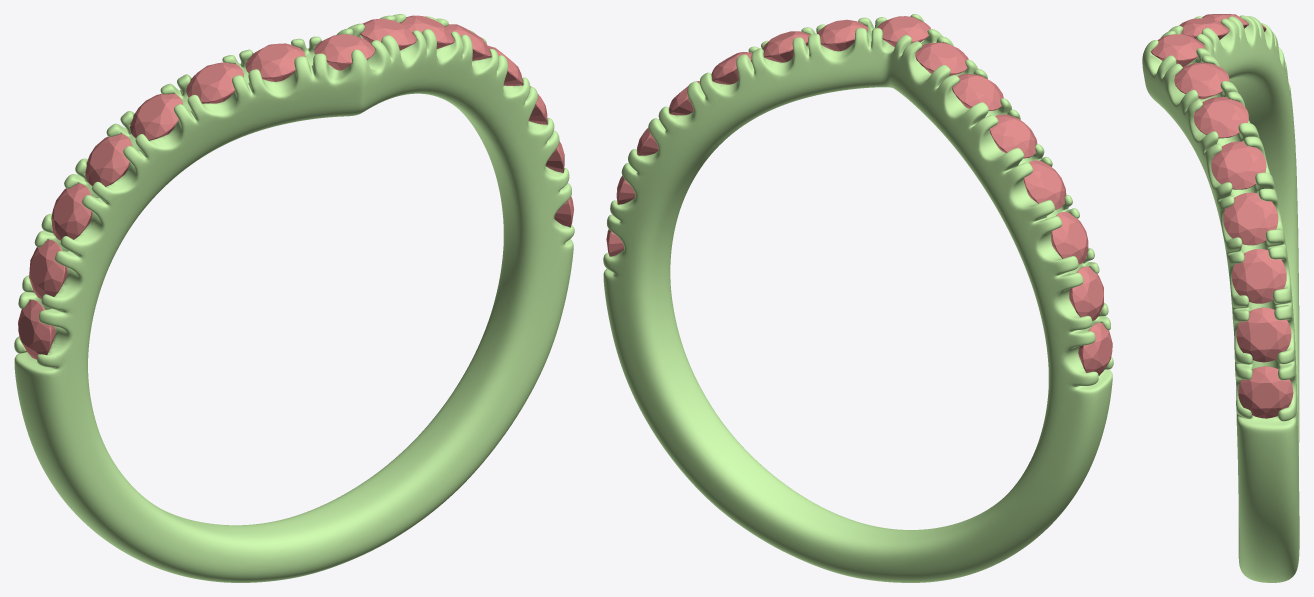
Rendered from BE2D1940LC_RENDER.glb.
3 renders of one model, left to right at view 1: azimuth 30°, elevation 25°; view 2: azimuth 150°, elevation 25°; view 3: azimuth 270°, elevation 25°, orthographic. The views are drawn at different scales.
Visible parts, largest first — view 1: Metal03, Diamond_Round_Gem_BD.014, Diamond_Round_Gem_BD.012, Diamond_Round_Gem_BD.003, Diamond_Round_Gem_BD.010, Diamond_Round_Gem_BD.005, Diamond_Round_Gem_BD.008, Diamond_Round_Gem_BD, Diamond_Round_Gem_BD.006, Diamond_Round_Gem_BD.007, Diamond_Round_Gem_BD.009; view 2: Metal03, Diamond_Round_Gem_BD.014, Diamond_Round_Gem_BD.012, Diamond_Round_Gem_BD.003, Diamond_Round_Gem_BD.010, Diamond_Round_Gem_BD.005, Diamond_Round_Gem_BD.008, Diamond_Round_Gem_BD, Diamond_Round_Gem_BD.006, Diamond_Round_Gem_BD.007, Diamond_Round_Gem_BD.009, Diamond_Round_Gem_BD.011; view 3: Metal03, Diamond_Round_Gem_BD.004, Diamond_Round_Gem_BD.002, Diamond_Round_Gem_BD.013, Diamond_Round_Gem_BD.001, Diamond_Round_Gem_BD.011, Diamond_Round_Gem_BD.009, Diamond_Round_Gem_BD.007, Diamond_Round_Gem_BD.006, Diamond_Round_Gem_BD.008, Diamond_Round_Gem_BD.010.
Boxes of the visible parts, x1,y1,x2,y2 form: Metal03: (14, 14, 574, 582); Diamond_Round_Gem_BD.014: (85, 133, 132, 186); Diamond_Round_Gem_BD.012: (130, 93, 182, 140); Diamond_Round_Gem_BD.003: (51, 183, 92, 240); Diamond_Round_Gem_BD.010: (186, 62, 243, 103); Diamond_Round_Gem_BD.005: (29, 239, 67, 299); Diamond_Round_Gem_BD.008: (245, 43, 305, 81); Diamond_Round_Gem_BD: (18, 299, 55, 359); Diamond_Round_Gem_BD.006: (314, 34, 374, 70); Diamond_Round_Gem_BD.007: (360, 18, 416, 50); Diamond_Round_Gem_BD.009: (400, 15, 454, 48); Metal03: (603, 14, 1113, 582); Diamond_Round_Gem_BD.014: (1023, 160, 1066, 209); Diamond_Round_Gem_BD.012: (989, 114, 1037, 158); Diamond_Round_Gem_BD.003: (1051, 212, 1088, 264); Diamond_Round_Gem_BD.010: (952, 74, 1003, 110); Diamond_Round_Gem_BD.005: (1069, 266, 1103, 320); Diamond_Round_Gem_BD.008: (915, 42, 968, 76); Diamond_Round_Gem_BD: (1078, 322, 1112, 375); Diamond_Round_Gem_BD.006: (877, 16, 930, 46); Diamond_Round_Gem_BD.007: (817, 19, 867, 51); Diamond_Round_Gem_BD.009: (762, 31, 809, 62); Diamond_Round_Gem_BD.011: (711, 52, 752, 84); Metal03: (1142, 15, 1299, 582); Diamond_Round_Gem_BD.004: (1236, 307, 1291, 362); Diamond_Round_Gem_BD.002: (1232, 249, 1286, 303); Diamond_Round_Gem_BD.013: (1223, 192, 1278, 245); Diamond_Round_Gem_BD.001: (1238, 366, 1293, 418); Diamond_Round_Gem_BD.011: (1211, 141, 1266, 189); Diamond_Round_Gem_BD.009: (1194, 96, 1248, 138); Diamond_Round_Gem_BD.007: (1174, 62, 1229, 99); Diamond_Round_Gem_BD.006: (1150, 34, 1204, 66); Diamond_Round_Gem_BD.008: (1179, 18, 1229, 40); Diamond_Round_Gem_BD.010: (1202, 14, 1248, 28).
Bounding box in the file's own units: 20.72 × 20.68 × 5.72.
